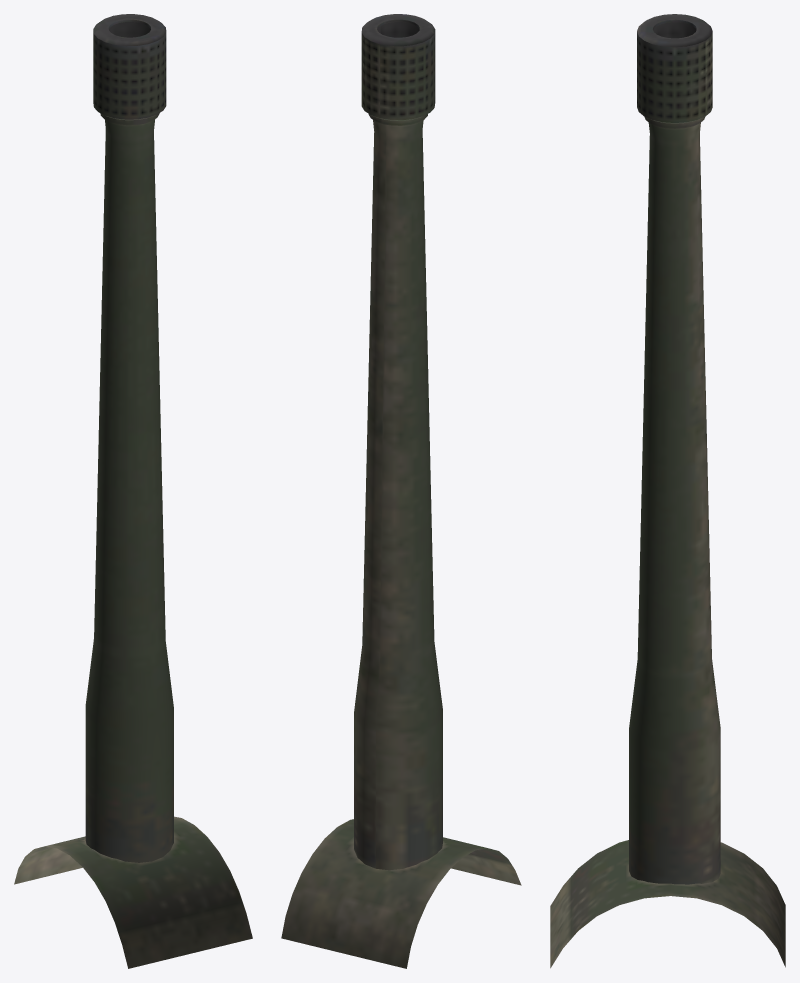
Rendered from Gun_01.glb.
3 renders of one model, left to right at view 1: azimuth 30°, elevation 25°; view 2: azimuth 150°, elevation 25°; view 3: azimuth 270°, elevation 25°, orthographic. The views are drawn at different scales.
Visible parts, largest first — view 1: set_0_group_0; view 2: set_0_group_0; view 3: set_0_group_0.
Boxes of the visible parts, x1,y1,x2,y2 form: set_0_group_0: [14, 14, 252, 968]; set_0_group_0: [281, 14, 521, 968]; set_0_group_0: [550, 14, 785, 968].
Size of the model in its own units: 0.1824 by 1.23 by 0.2894.
1 material, 1 textured.
